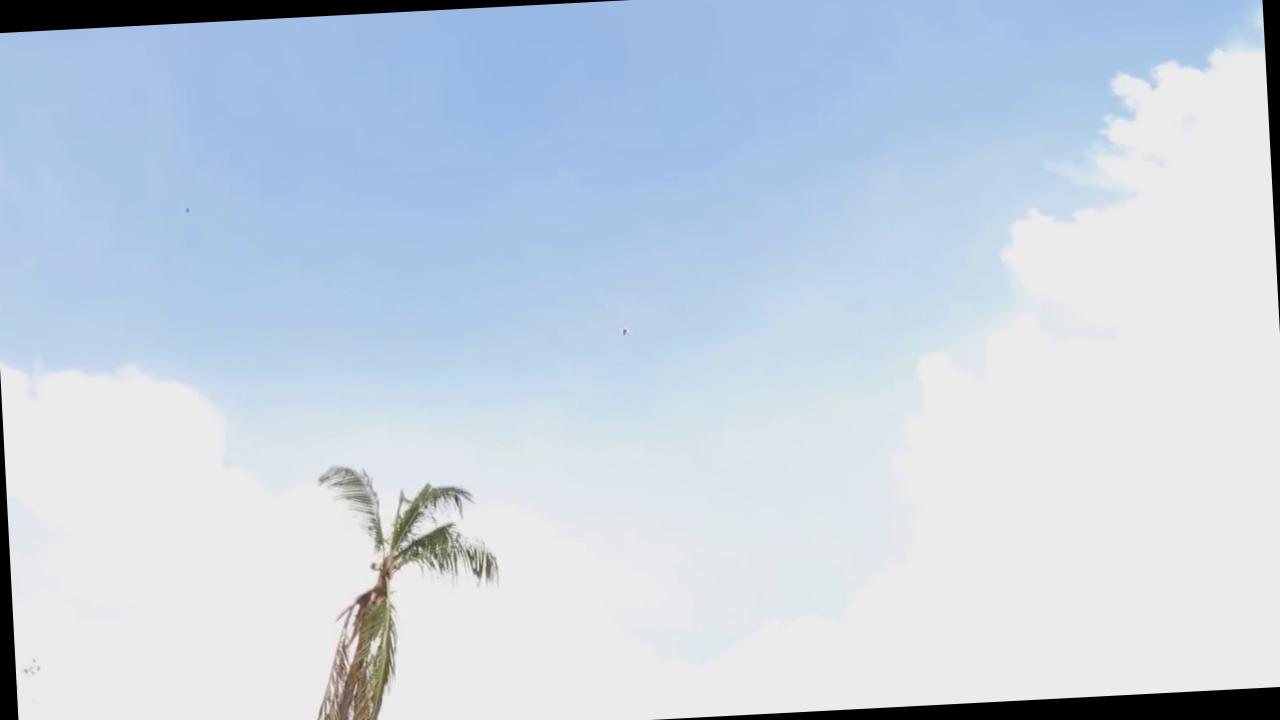drone: (613, 325, 636, 339)
